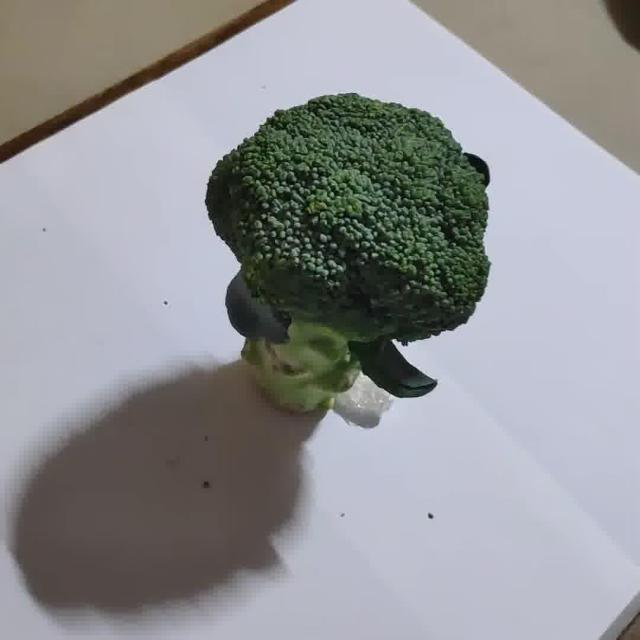Broccoli: (205, 93, 490, 427)
